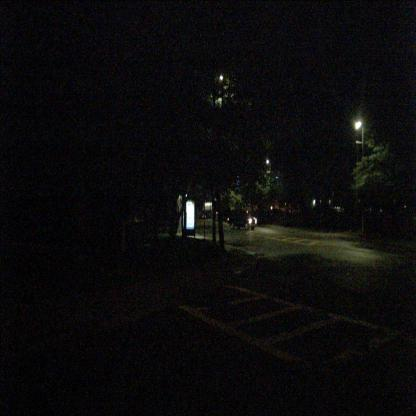vehicle-car: (227, 210, 257, 231)
